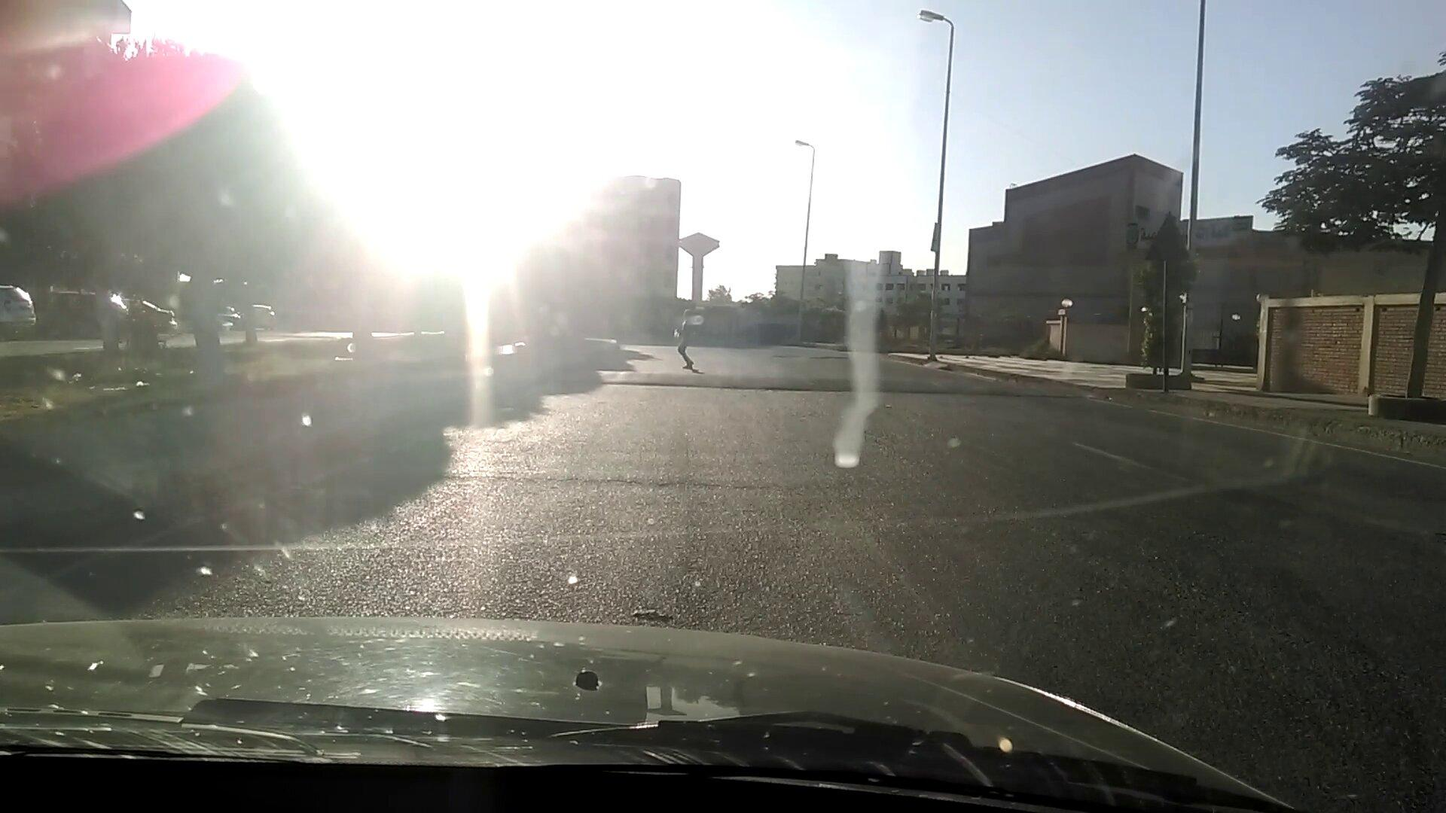Bump: (574, 369, 1060, 399)
